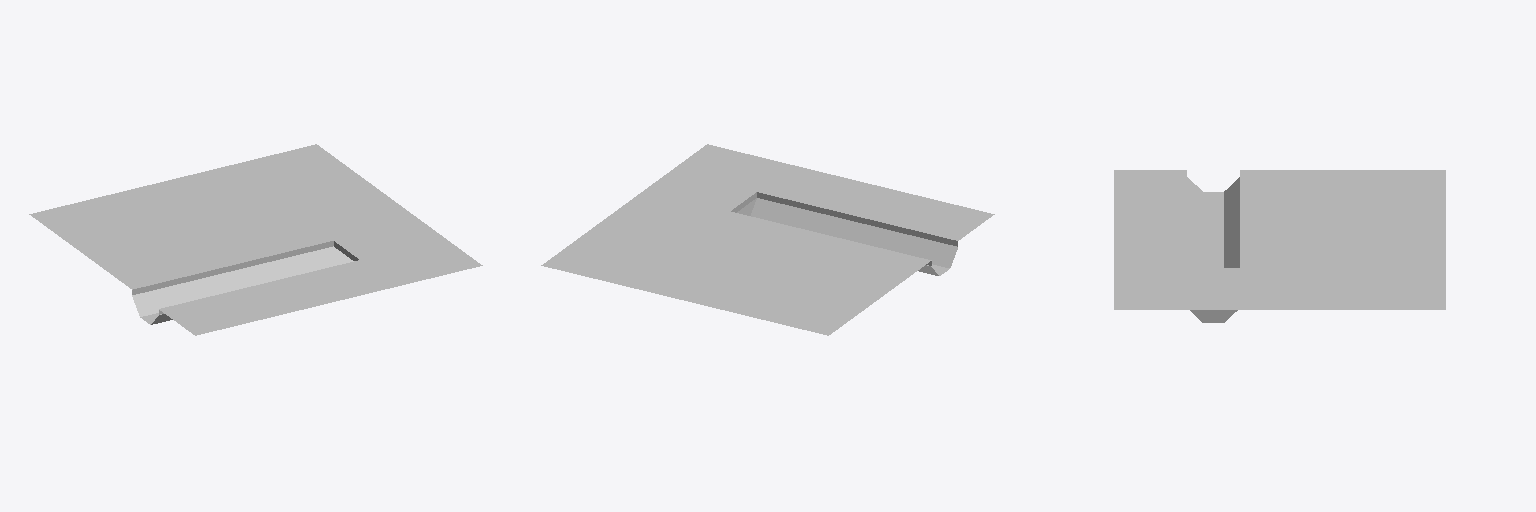
File: Ground Plane1.obj
3 views of the same model, side by side, from view 1: azimuth 30°, elevation 25°; view 2: azimuth 150°, elevation 25°; view 3: azimuth 270°, elevation 25° (orthographic).
Visible parts, largest first — view 1: pPlane1; view 2: pPlane1; view 3: pPlane1.
Boxes of the visible parts, x1=… form: pPlane1: x1=29, y1=144, x2=482, y2=335; pPlane1: x1=541, y1=144, x2=994, y2=335; pPlane1: x1=1114, y1=170, x2=1445, y2=322.
Size of the model in its own units: 100 by 10.59 by 100.